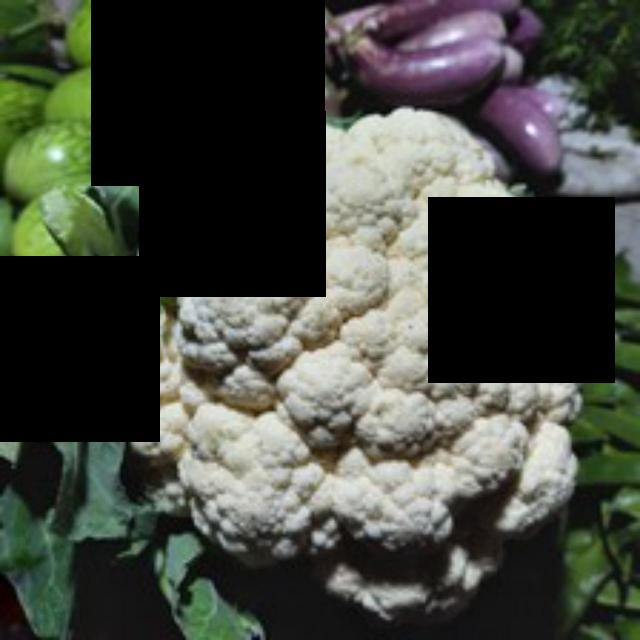cauliflower: (91, 109, 599, 619)
